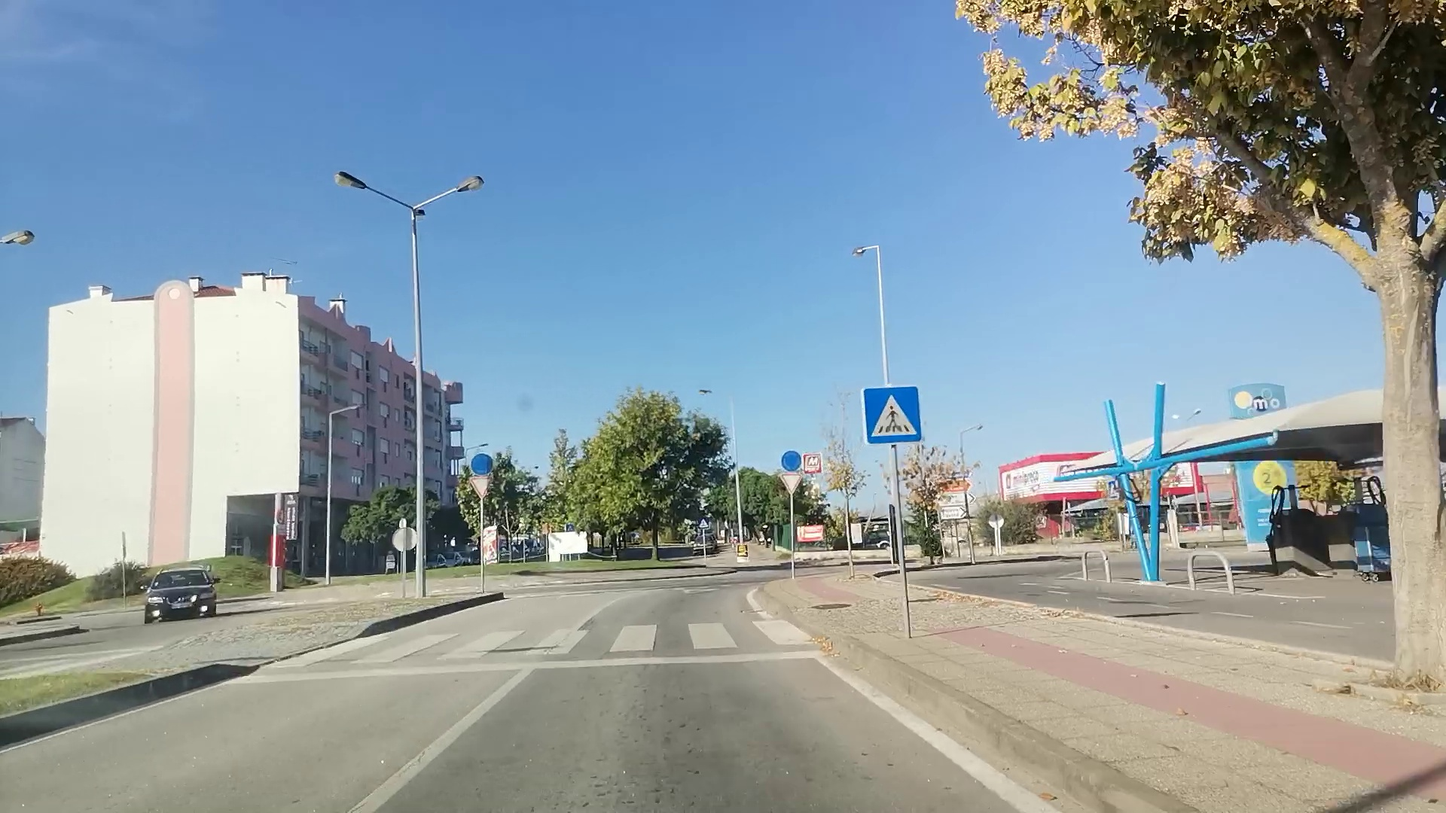Stairs: (339, 625, 814, 668)
